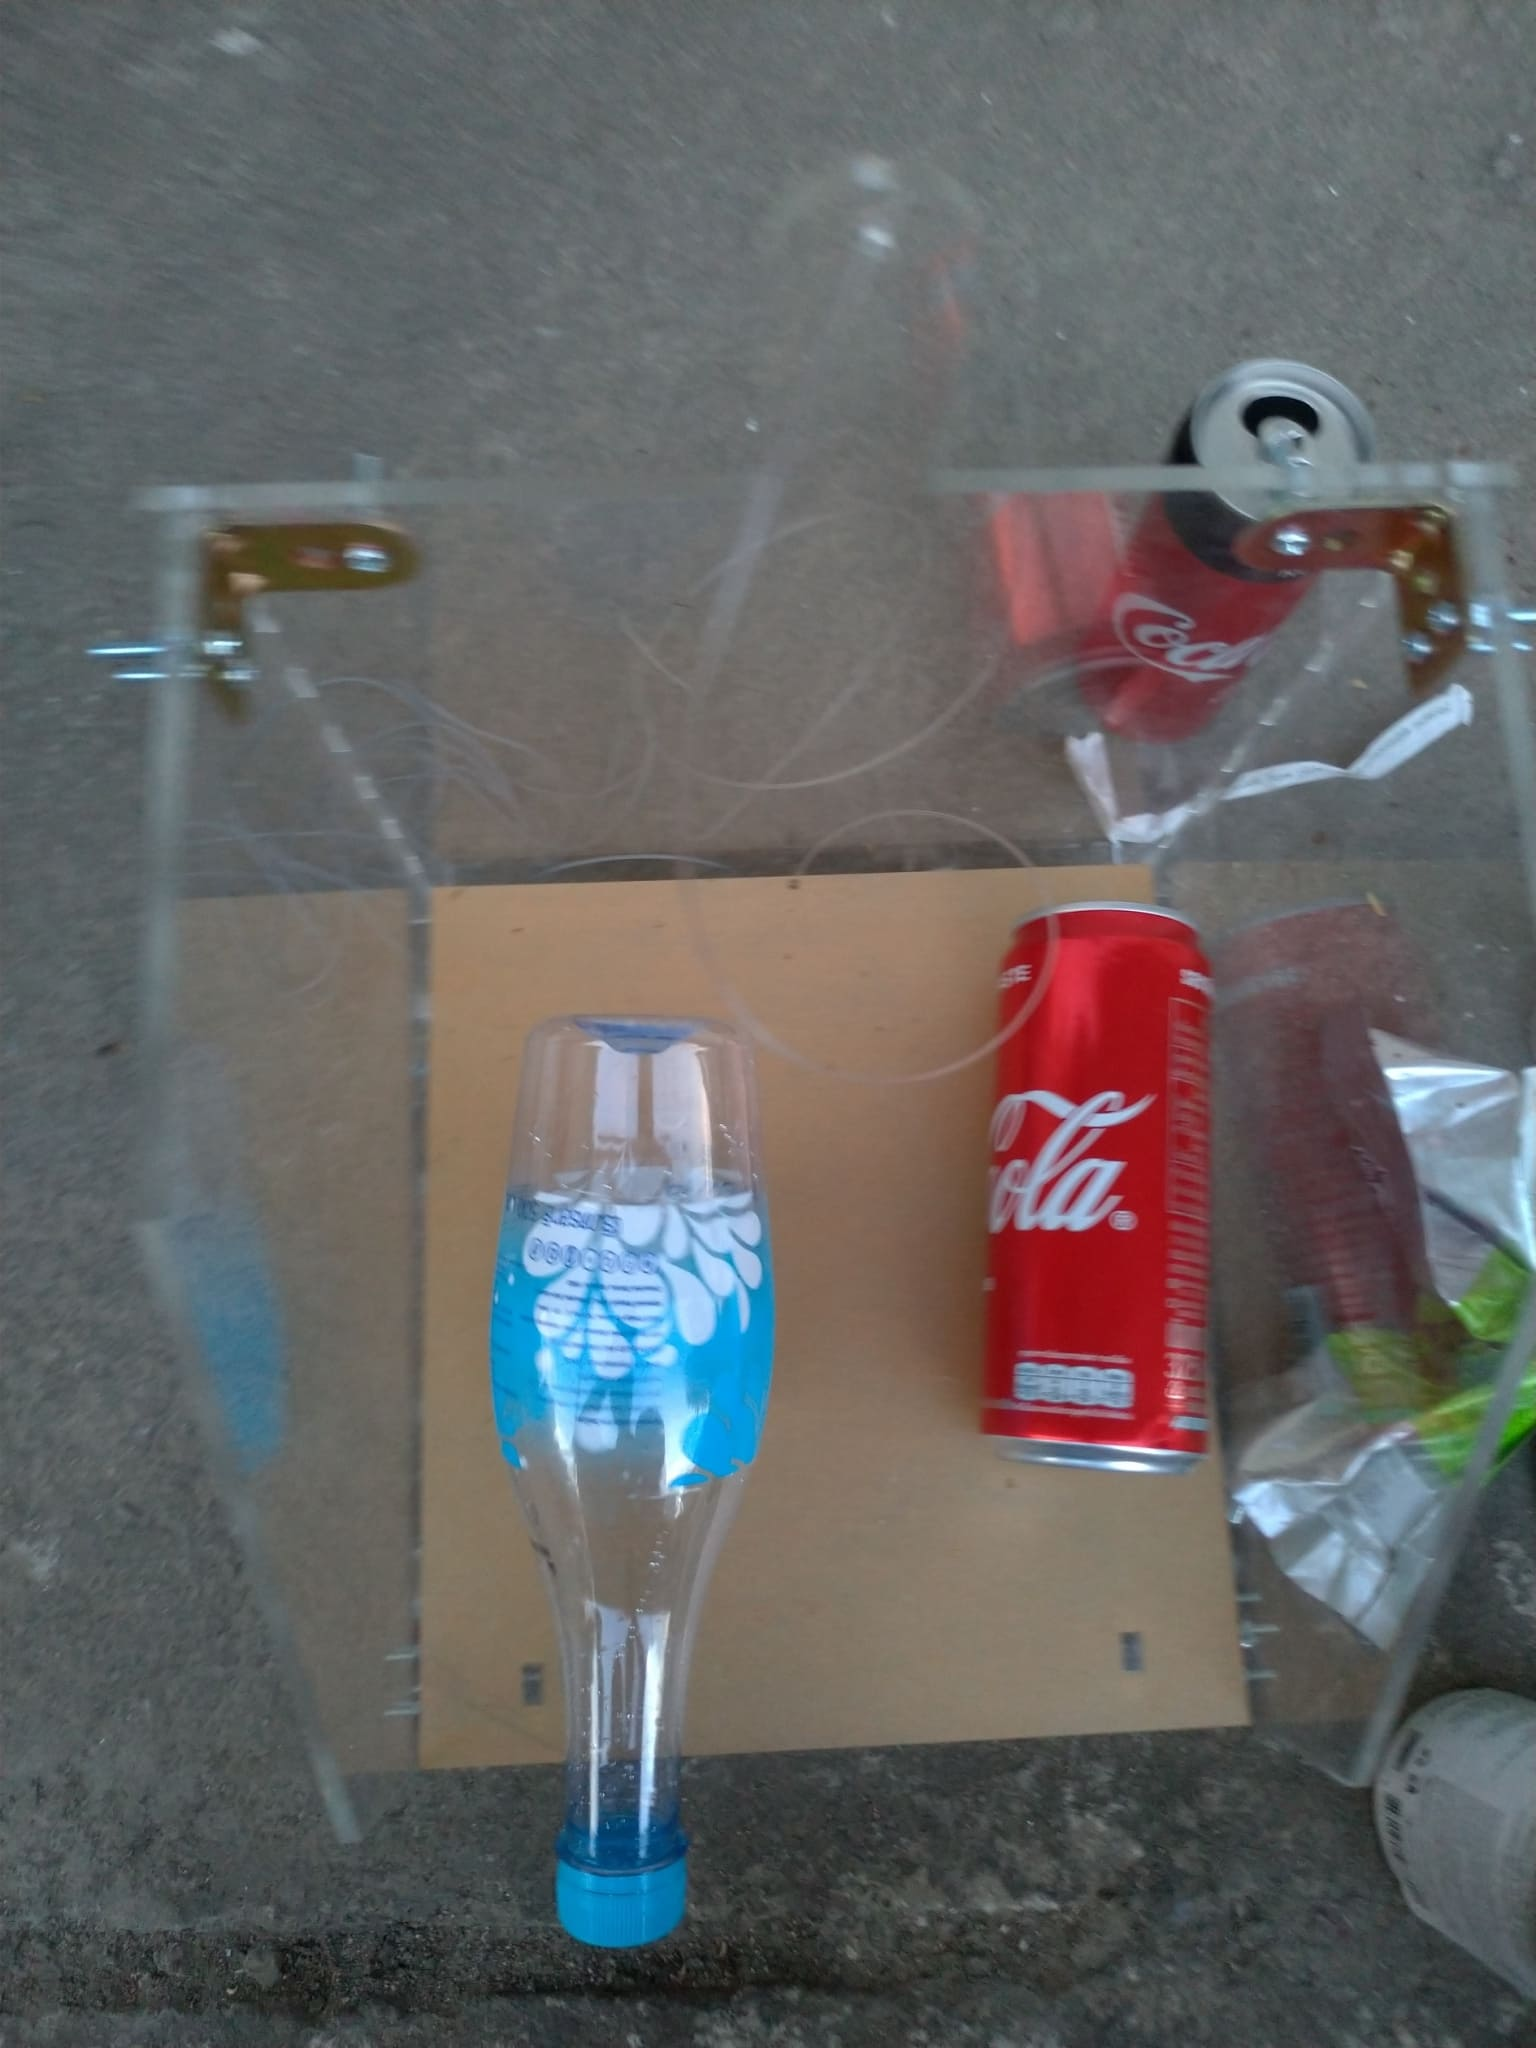AlCan: (973, 906, 1225, 1474), (1076, 358, 1370, 739), (1363, 1671, 1536, 1971)
Others: (1221, 1003, 1536, 1635)
PlasticBottle: (492, 1019, 779, 1938)
